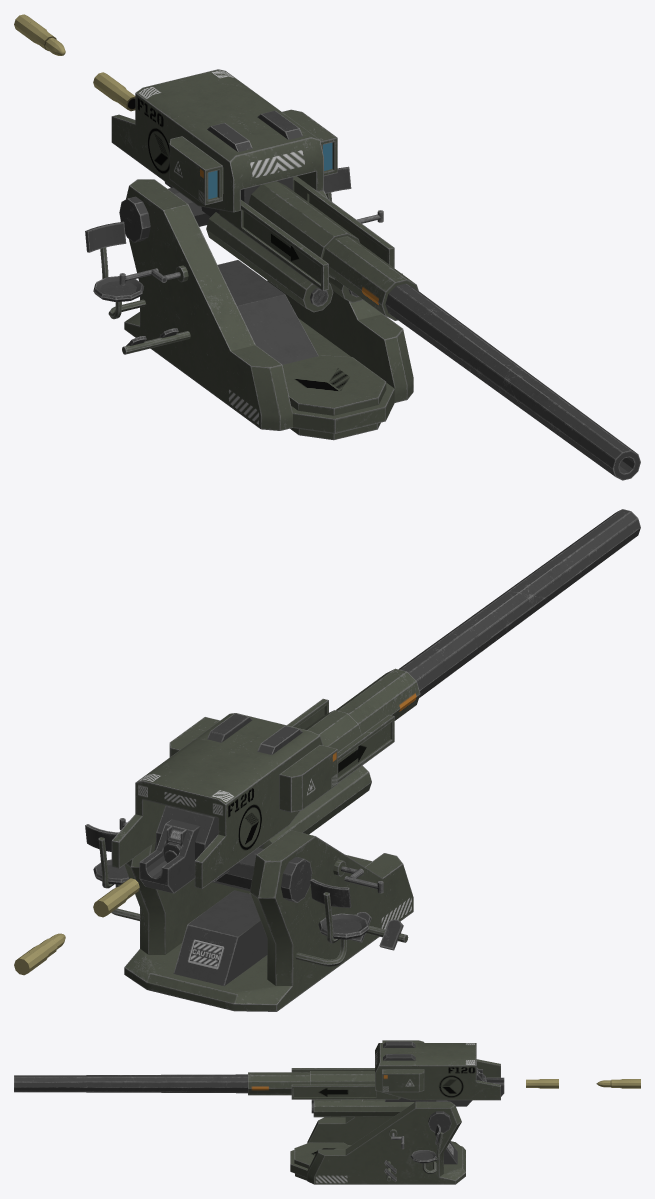
Rendered from Gunmaggedon F120 Stratohammer.fbx.
3 renders of one model, top to bottom at view 1: azimuth 30°, elevation 25°; view 2: azimuth 150°, elevation 25°; view 3: azimuth 270°, elevation 25°, orthographic. The views are drawn at different scales.
Parts seen in each view (by area): view 1: traverse, gun, barrel, shell_loaded, shell_casing; view 2: gun, traverse, barrel, shell_loaded, shell_casing; view 3: gun, traverse, barrel, shell_loaded, shell_casing.
Part boxes in pixels (x1,y1,x2,y2): traverse: [85, 166, 413, 440]; gun: [111, 69, 418, 320]; barrel: [385, 283, 640, 480]; shell_loaded: [14, 14, 65, 55]; shell_casing: [93, 72, 135, 111]; gun: [111, 668, 420, 902]; traverse: [85, 824, 413, 1011]; barrel: [399, 509, 640, 697]; shell_loaded: [14, 933, 65, 975]; shell_casing: [93, 878, 139, 917]; gun: [248, 1040, 504, 1133]; traverse: [290, 1101, 465, 1184]; barrel: [14, 1074, 247, 1093]; shell_loaded: [596, 1079, 640, 1088]; shell_casing: [526, 1079, 558, 1088].
Bounding box in the file's own units: 371 × 293 × 1376.
1 material, 1 textured.
